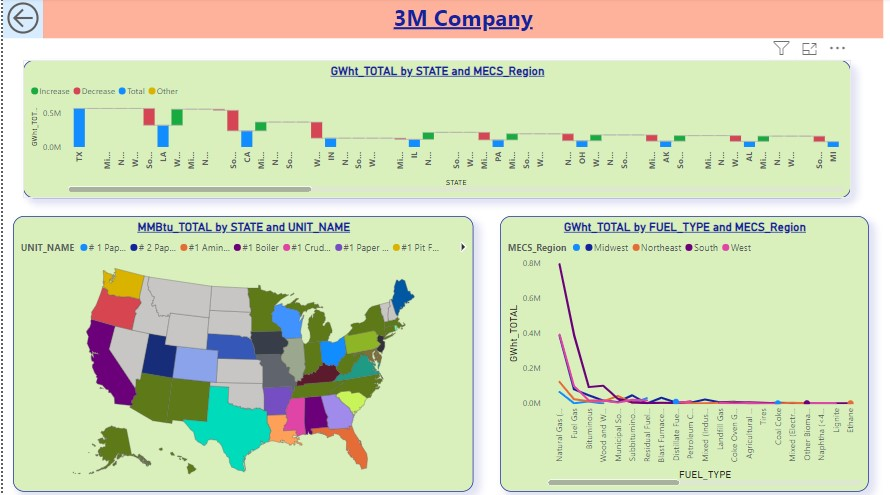

The page's visual inventory and layout, read from the dashboard file:
{"tool":"powerbi","page":{"name":"3m company","canvas":[1280,720],"ordinal":2},"visuals":[{"type":"actionButton","box":[0,0,57.6,57.6],"z":0},{"type":"shapeMap","fields":{"Category":["data_1.STATE"],"Series":["data_1.UNIT_NAME"],"Value":["Sum(data_1.MMBtu_TOTAL)"]},"box":[14.7,314.2,662.5,397.3],"z":1000},{"type":"lineChart","fields":{"Series":["data_1.MECS_Region"],"Y":["Sum(data_1.GWht_TOTAL)"],"Category":["data_1.FUEL_TYPE"]},"box":[715.1,314.2,530.5,397.3],"z":2000},{"type":"waterfallChart","fields":{"Category":["data_1.STATE"],"Breakdown":["data_1.MECS_Region"],"Y":["Sum(data_1.GWht_TOTAL)"]},"box":[29.3,89.2,1191.9,199.3],"z":3000},{"type":"textbox","box":[57.6,0,1210,57.6],"z":4000}]}

Visuals, with their boxes on the page's 1280x720 design canvas (x1, y1, x2, y2). These are canvas units, not pixel positions in the 890x495 screenshot, which may show the page scaled, cropped or inside an application window:
actionButton: 0 0 58 58
shapeMap - data_1.STATE x data_1.UNIT_NAME: 15 314 677 712
lineChart - data_1.MECS_Region x Sum(data_1.GWht_TOTAL): 715 314 1246 712
waterfallChart - data_1.STATE x data_1.MECS_Region: 29 89 1221 288
textbox: 58 0 1268 58
